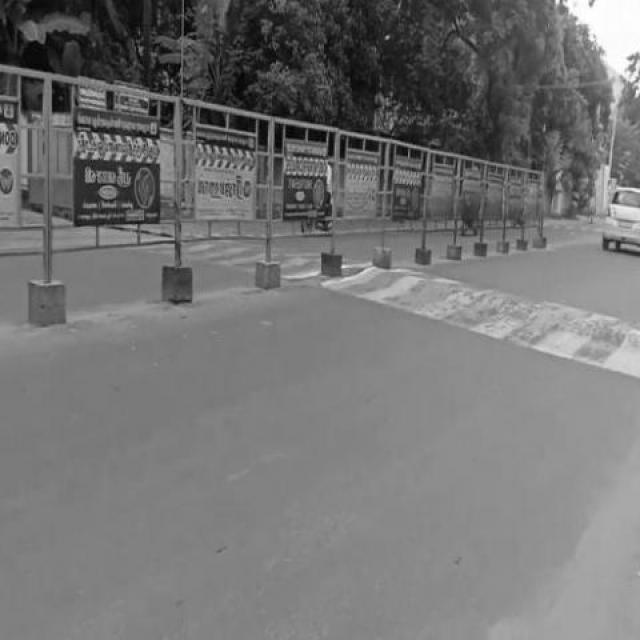Speed Bump: (342, 265, 640, 389), (192, 238, 256, 274), (280, 245, 322, 280)
